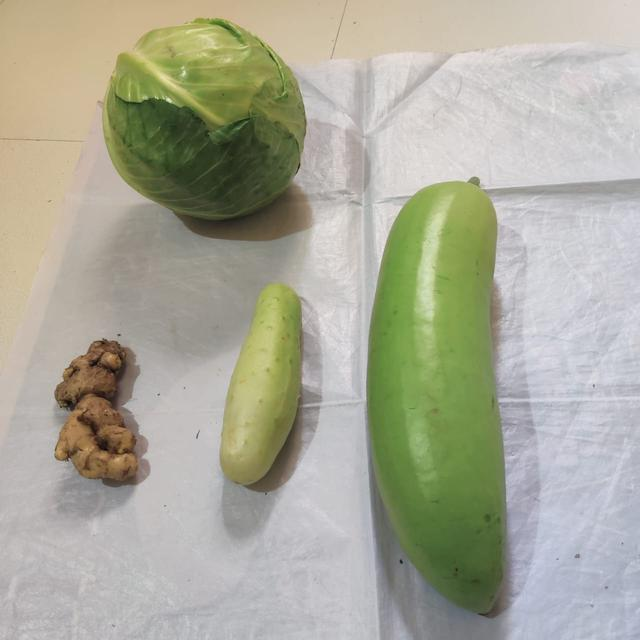Organik: (365, 160, 533, 623), (93, 10, 323, 226), (214, 264, 318, 496), (42, 327, 152, 494)
